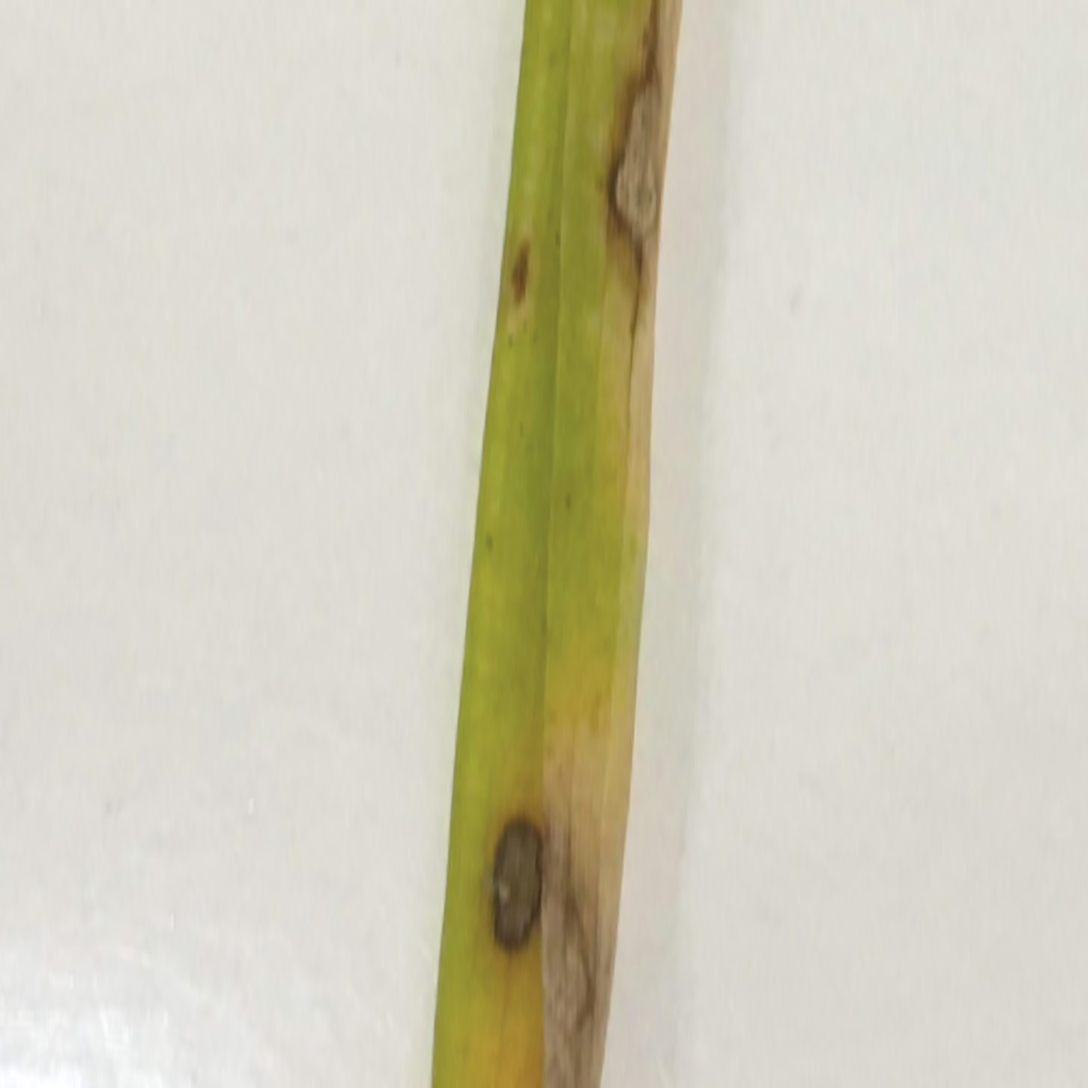Brown_Spot: (465, 730, 594, 996), (601, 13, 701, 331), (491, 220, 540, 315)
